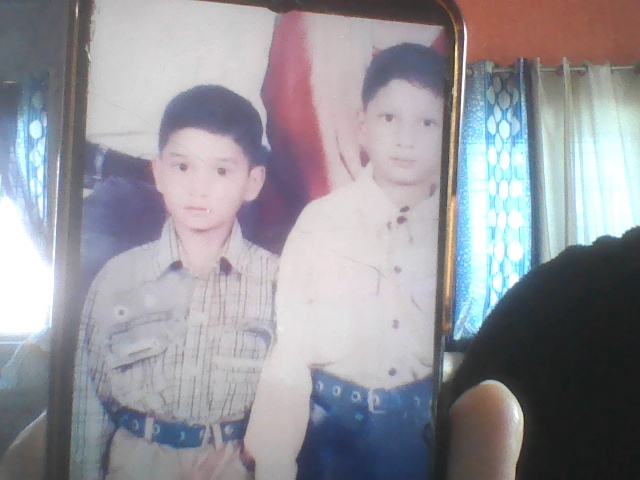fake: (317, 4, 468, 218), (160, 93, 265, 242)
